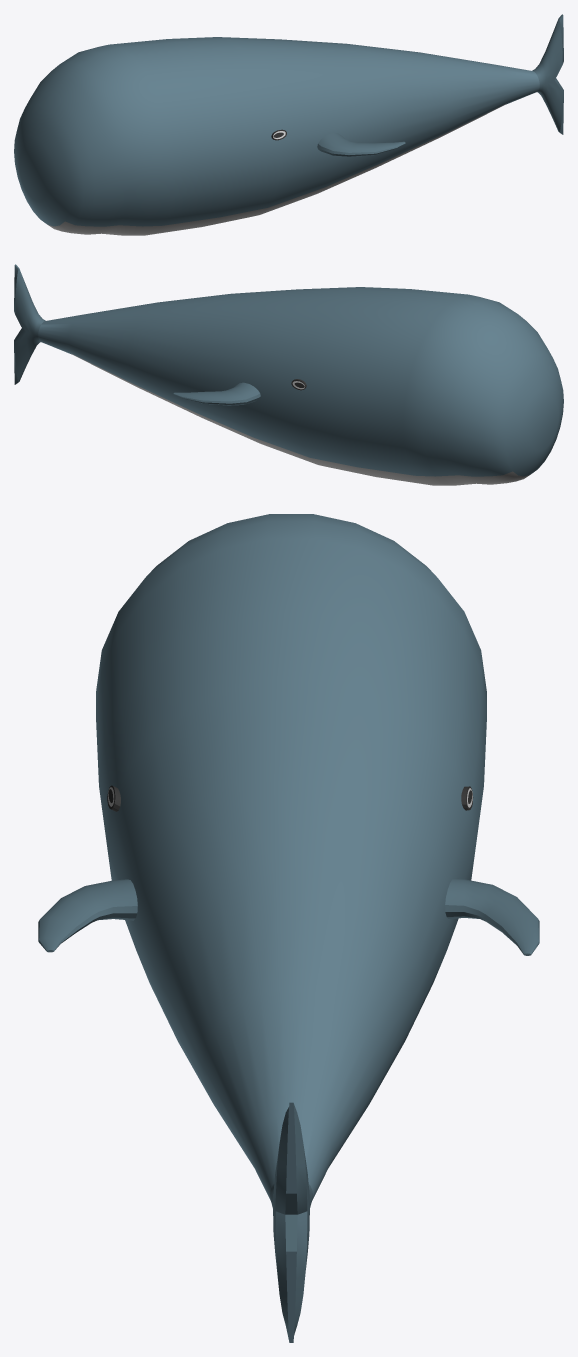
File: Toy_Whale.fbx
3 views of the same model, one above another, from view 1: azimuth 30°, elevation 25°; view 2: azimuth 150°, elevation 25°; view 3: azimuth 270°, elevation 25° (orthographic). The views are drawn at different scales.
Visible parts, largest first — view 1: Toy_Whale; view 2: Toy_Whale; view 3: Toy_Whale.
Part boxes in pixels (x1=…): Toy_Whale: x1=14, y1=14, x2=563, y2=235; Toy_Whale: x1=14, y1=264, x2=563, y2=485; Toy_Whale: x1=38, y1=514, x2=539, y2=1342.
Size of the model in its own units: 67.24 by 22.94 by 27.58.
Materials: 1 (1 with a texture image).
